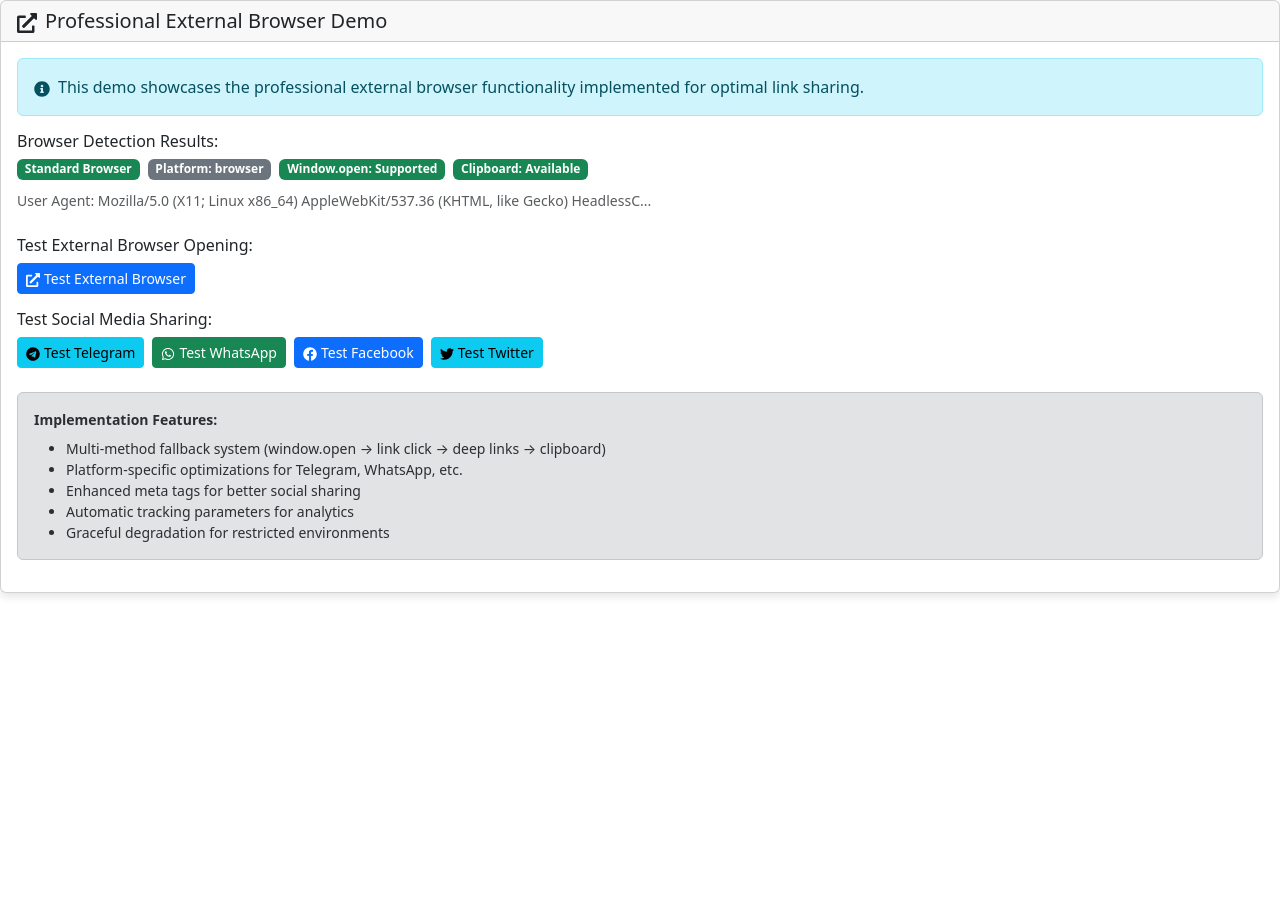
it: ExternalBrowser Professional Implementation › External Browser Opening › handles external browser opening fallback
The image size is (1280, 900).
Click the button "Test External Browser" at (106, 278), box [17,263,195,294]
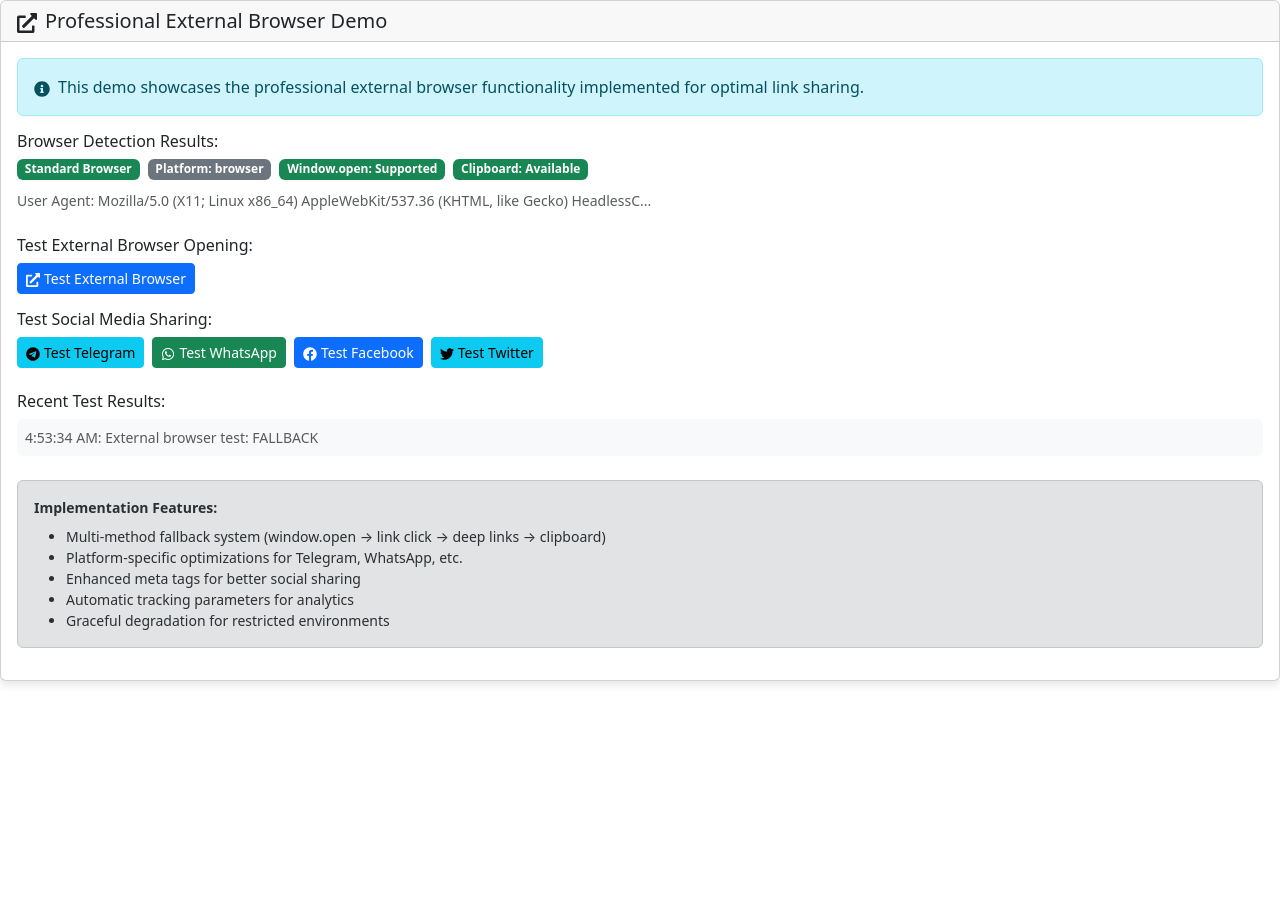
Expected: the text "4:53:34 AM: External browser test: FALLBACK" is shown, [25,428,318,447]
